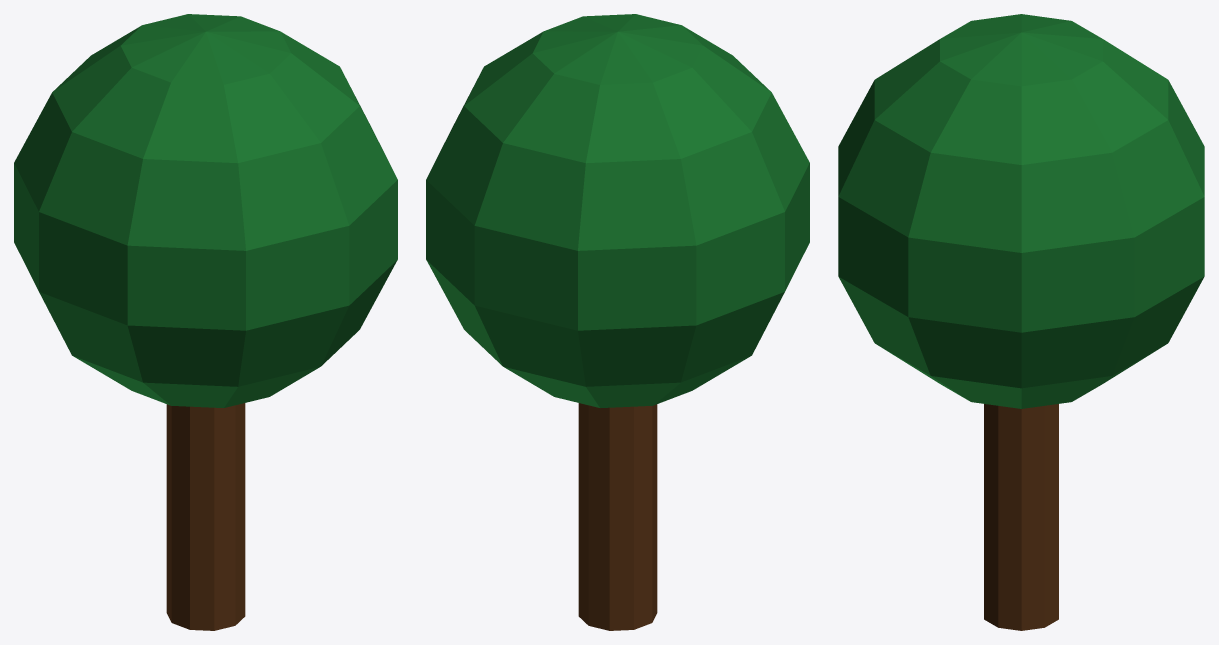
Rendered from LowPolyTree.obj.
3 views of the same model, side by side, from view 1: azimuth 30°, elevation 25°; view 2: azimuth 150°, elevation 25°; view 3: azimuth 270°, elevation 25° (orthographic).
Visible parts, largest first — view 1: Leaves, Trunk; view 2: Leaves, Trunk; view 3: Leaves, Trunk.
Part boxes in pixels (x1,y1,x2,y2): Leaves: [14, 14, 397, 407]; Trunk: [166, 403, 245, 630]; Leaves: [426, 14, 809, 407]; Trunk: [578, 403, 657, 630]; Leaves: [838, 14, 1204, 408]; Trunk: [984, 404, 1058, 630].
Bounding box in the file's own units: 1.56 × 2.6 × 1.48.
